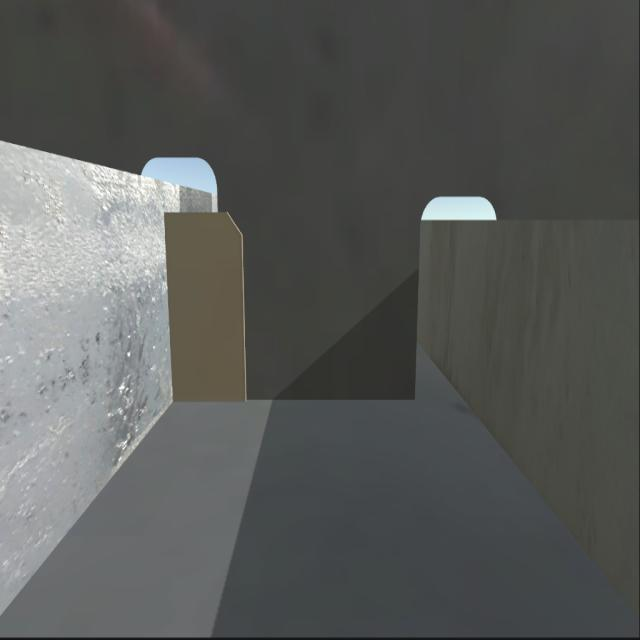fillet_yong_jeop_jang: (175, 388, 418, 412)
longi_yong_jeop_jang: (162, 210, 178, 400)
plate_CP03: (166, 202, 251, 397)
